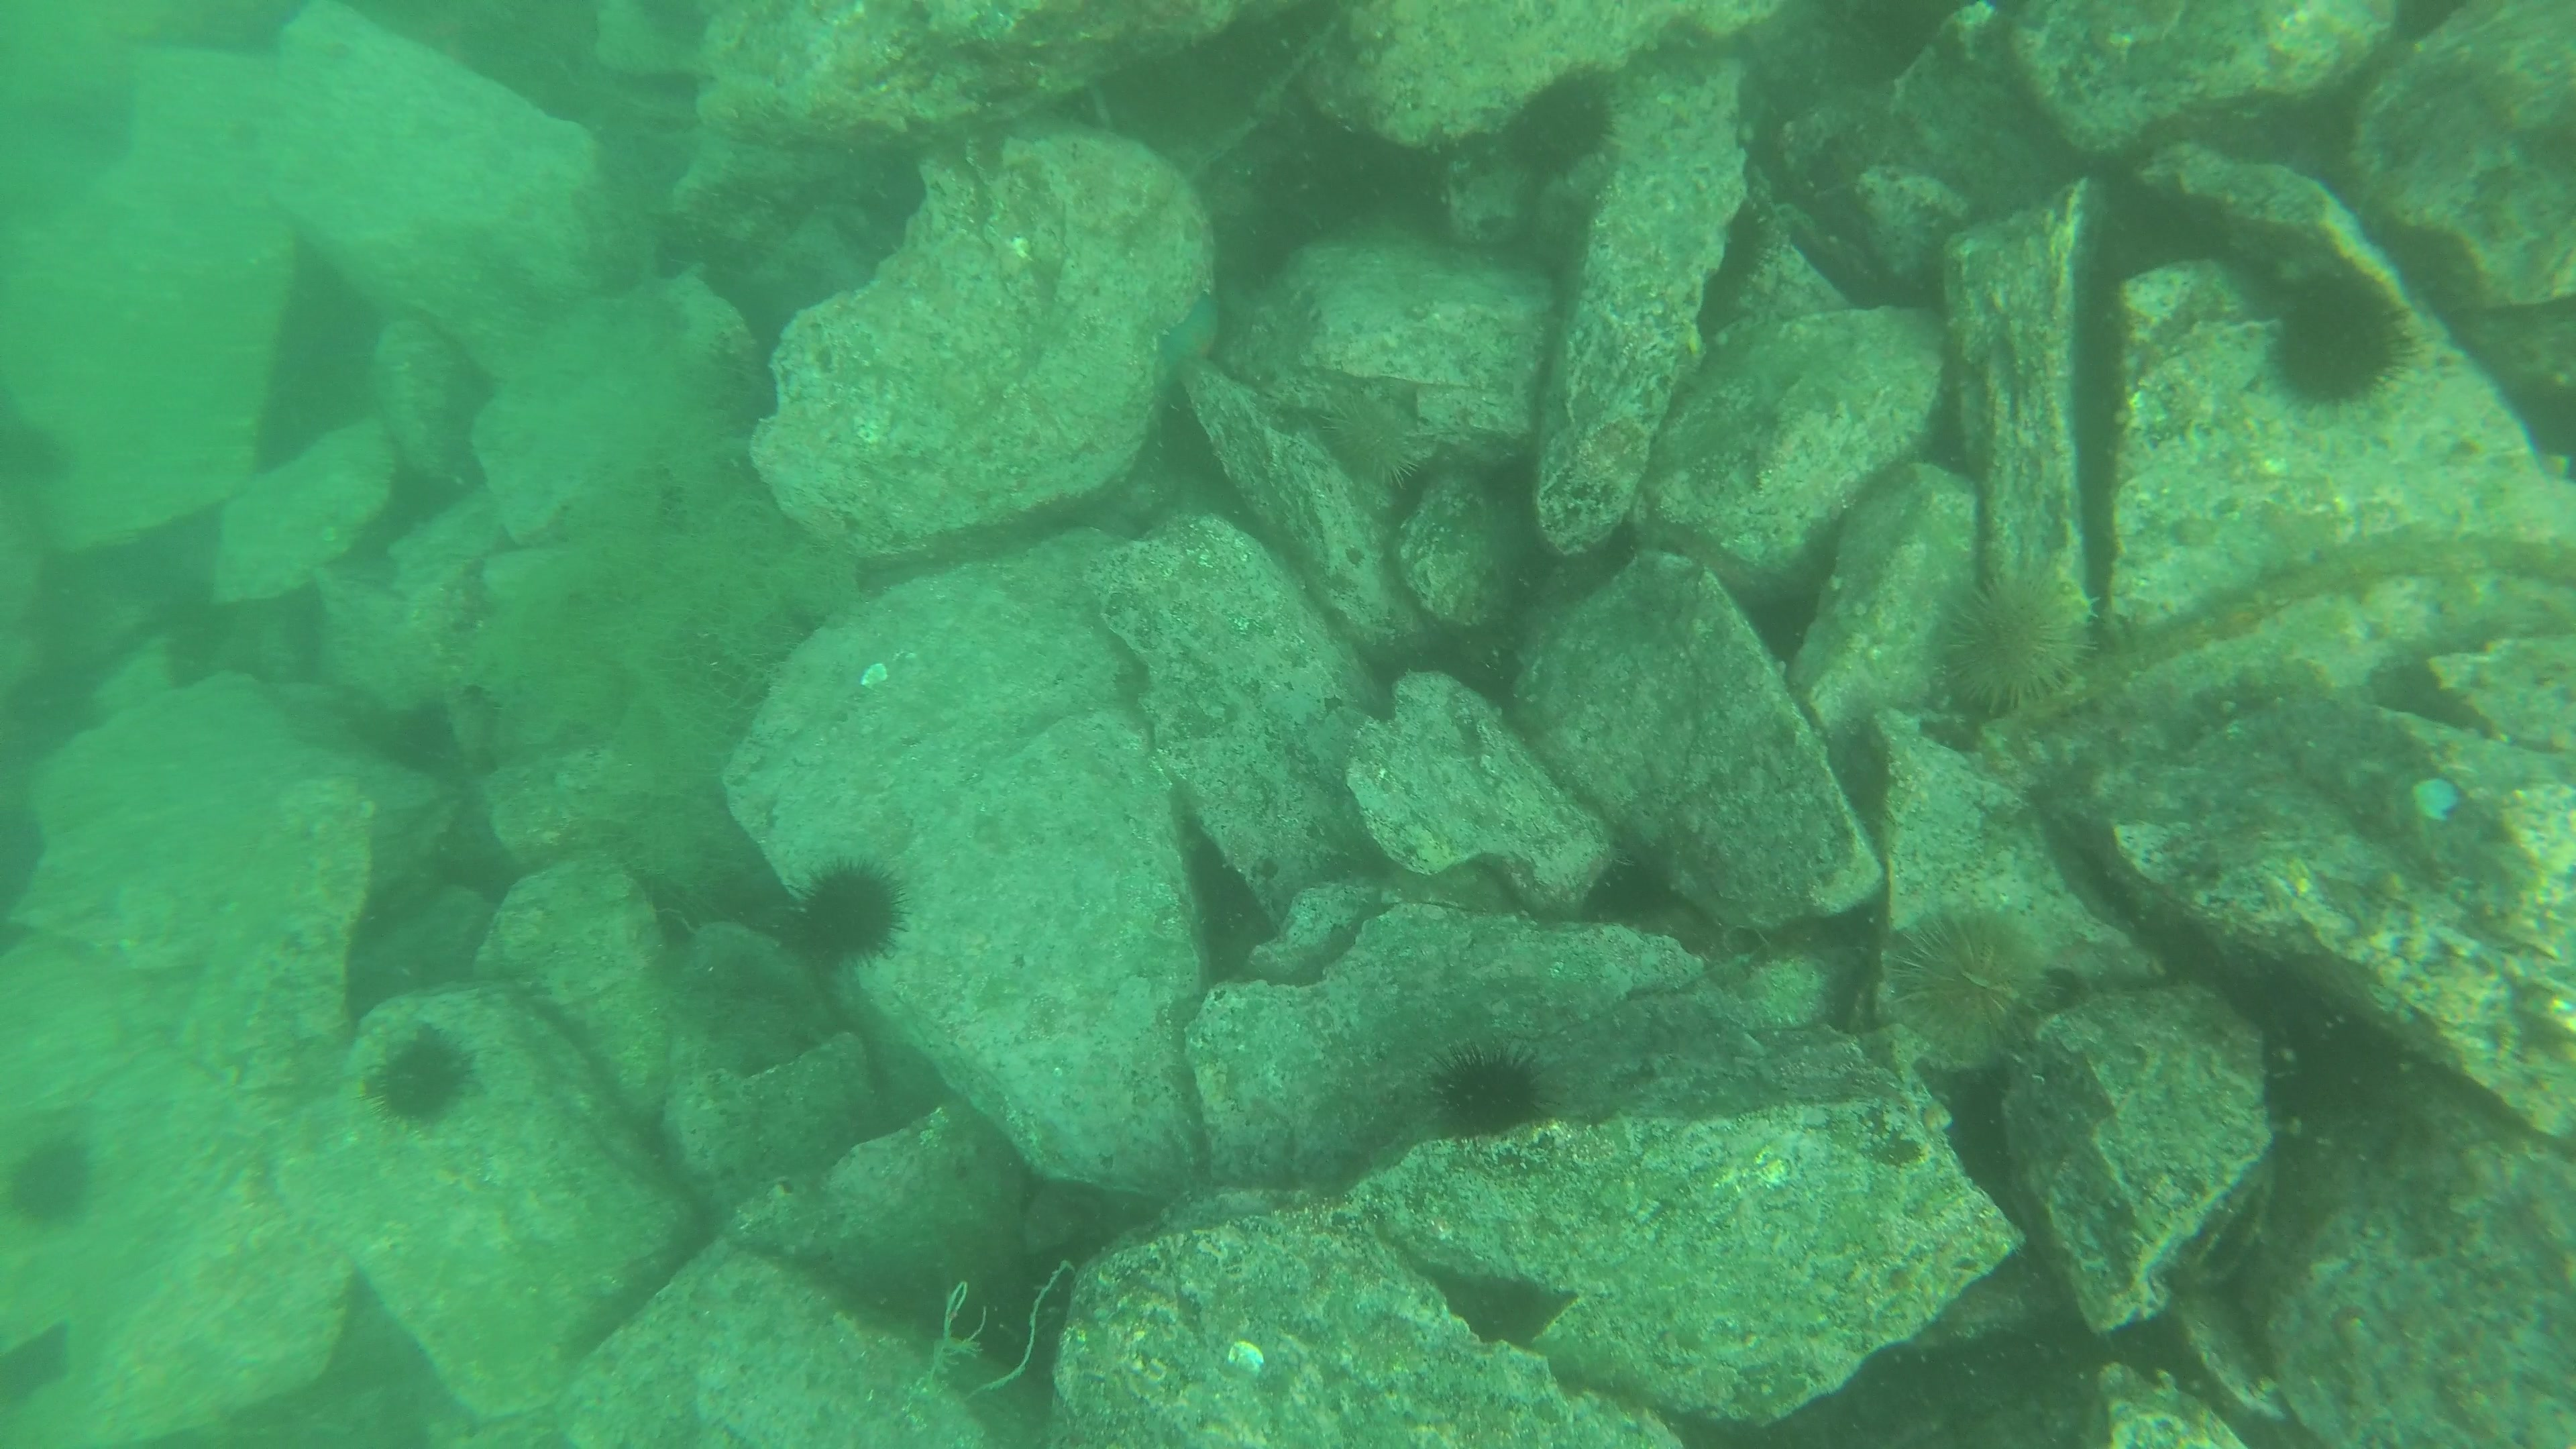echinus: (1902, 908, 2049, 1058), (1934, 575, 2082, 702), (2279, 297, 2399, 407), (793, 862, 904, 971), (373, 1030, 472, 1132), (1437, 1049, 1552, 1136), (9, 1141, 96, 1228)
starfish: (1159, 299, 1223, 398)
